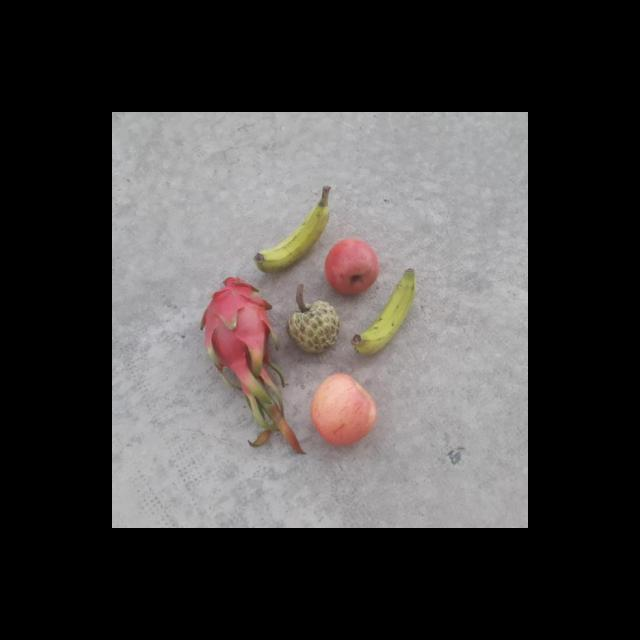Sakya fruit: (286, 300, 343, 354)
apple: (300, 370, 378, 444), (328, 235, 382, 292)
banana: (248, 196, 330, 274), (351, 266, 416, 356)
pitaya: (197, 272, 277, 394)
